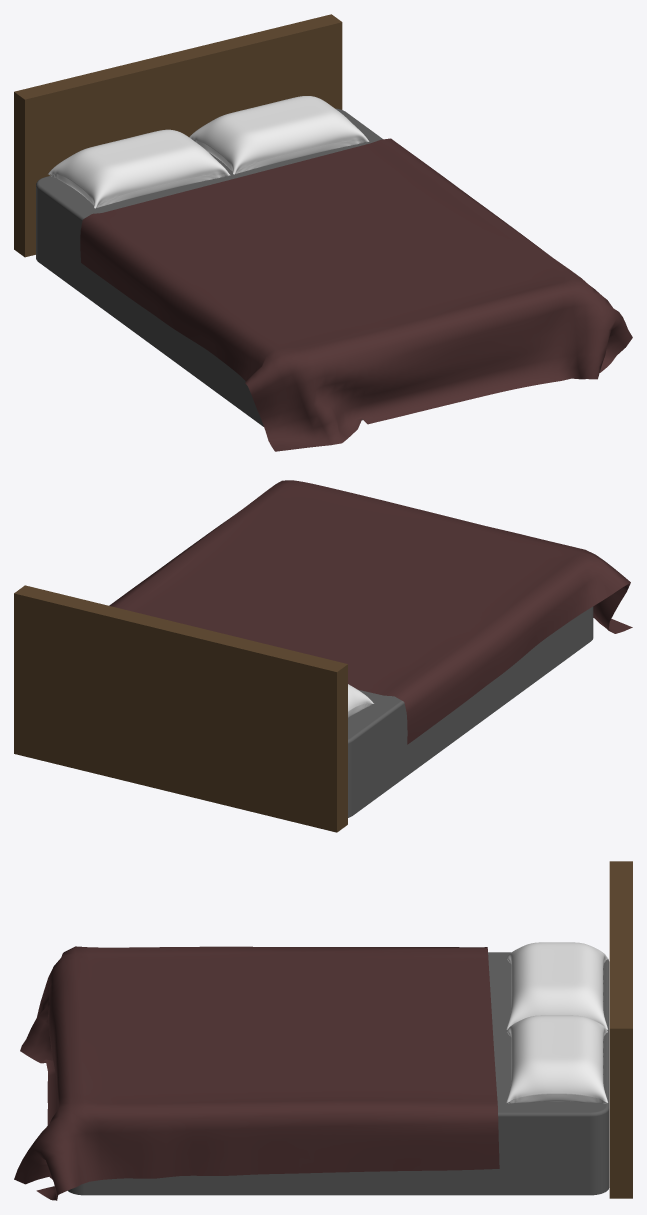
Rendered from Bed.fbx.
3 renders of one model, top to bottom at view 1: azimuth 30°, elevation 25°; view 2: azimuth 150°, elevation 25°; view 3: azimuth 270°, elevation 25°, orthographic. The views are drawn at different scales.
Parts seen in each view (by area): view 1: pCube6; view 2: pCube6; view 3: pCube6.
Boxes of the visible parts, x1,y1,x2,y2 form: pCube6: [14, 14, 632, 451]; pCube6: [14, 480, 632, 832]; pCube6: [14, 861, 632, 1200].
Size of the model in its own units: 10.52 by 4.17 by 13.75.
